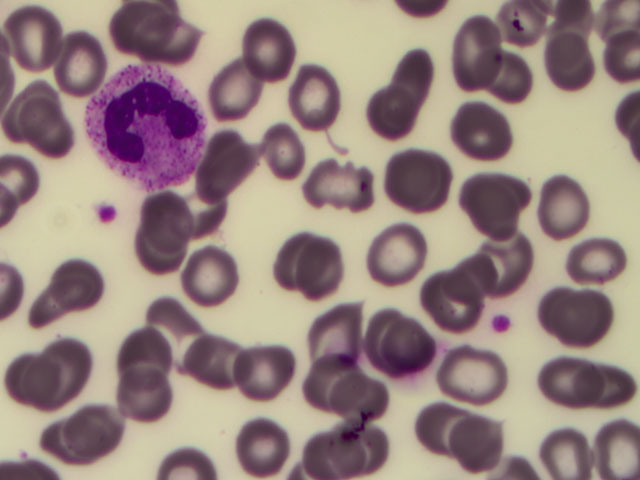Platelets: (94, 203, 122, 224), (492, 312, 512, 338)
RBC: (3, 6, 66, 69), (47, 26, 110, 89), (20, 86, 83, 149), (42, 245, 105, 308), (25, 338, 88, 401), (51, 343, 114, 406), (104, 345, 167, 408), (128, 319, 191, 382), (149, 279, 212, 342), (187, 342, 250, 405), (234, 348, 297, 411), (293, 315, 356, 378), (306, 228, 369, 291), (271, 226, 334, 289), (151, 246, 214, 309), (132, 199, 195, 262), (177, 178, 240, 241), (226, 134, 289, 197), (216, 67, 279, 130), (230, 17, 293, 80), (281, 54, 344, 117), (262, 124, 325, 187), (309, 151, 372, 214), (375, 140, 438, 203), (374, 76, 437, 139), (384, 49, 447, 112), (444, 25, 507, 88), (486, 44, 549, 107), (543, 15, 606, 78), (533, 174, 596, 237), (465, 177, 528, 240), (457, 116, 520, 179), (396, 151, 459, 214), (371, 227, 434, 290), (408, 257, 471, 320), (460, 240, 523, 303), (488, 223, 551, 286), (559, 237, 622, 300), (563, 281, 626, 344), (570, 341, 633, 404), (441, 358, 504, 421), (378, 312, 441, 375), (348, 294, 411, 357), (316, 371, 379, 434), (325, 417, 388, 480), (416, 417, 479, 480), (542, 417, 605, 480), (577, 417, 640, 480), (405, 402, 468, 465), (229, 417, 292, 480), (68, 398, 131, 461), (499, 1, 562, 63)
WBC: (82, 58, 209, 192)
